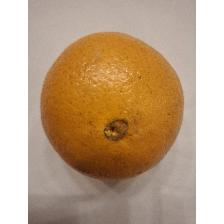Orange: (38, 28, 184, 184)
